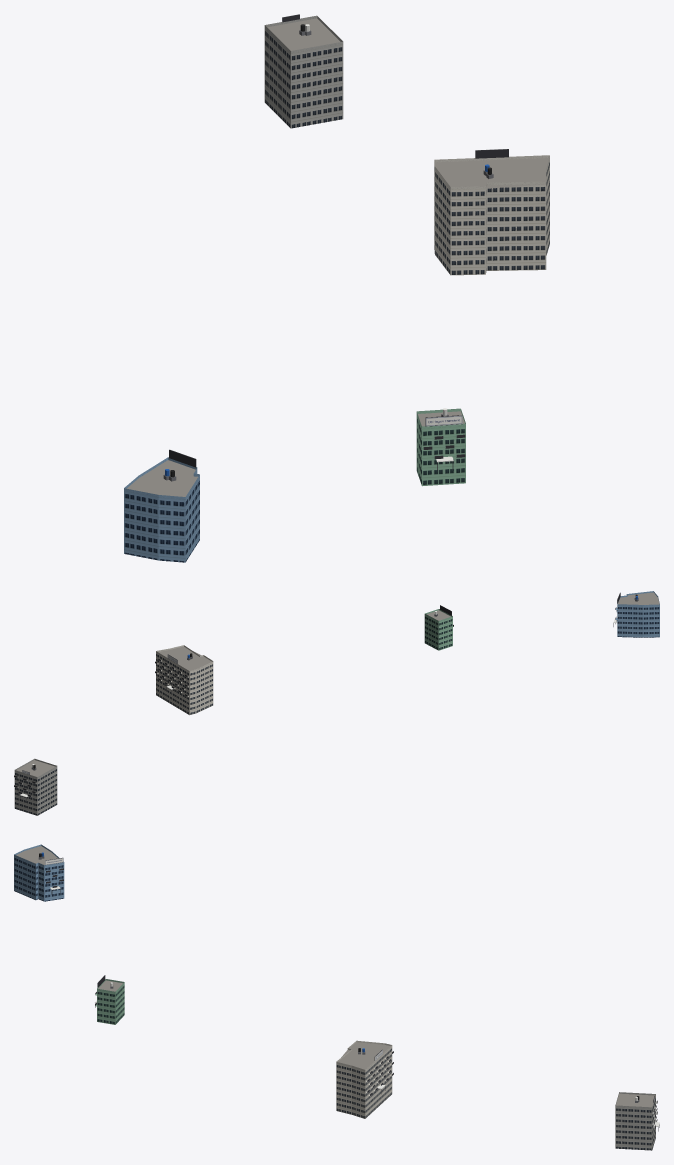
Rendered from hotels-27359-14871.20bd6ae2.glb.
3 views of the same model, one above another, from view 1: azimuth 30°, elevation 25°; view 2: azimuth 150°, elevation 25°; view 3: azimuth 270°, elevation 25° (orthographic). The views are drawn at different scales.
Size of the model in its own units: 254 by 63.88 by 343.
Materials: 4 (2 with a texture image).
